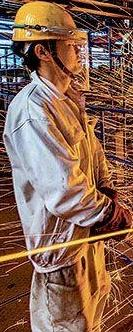gloves: (90, 200, 133, 241)
hard-hat: (10, 0, 78, 42)
ppe-suit: (0, 70, 125, 332)
